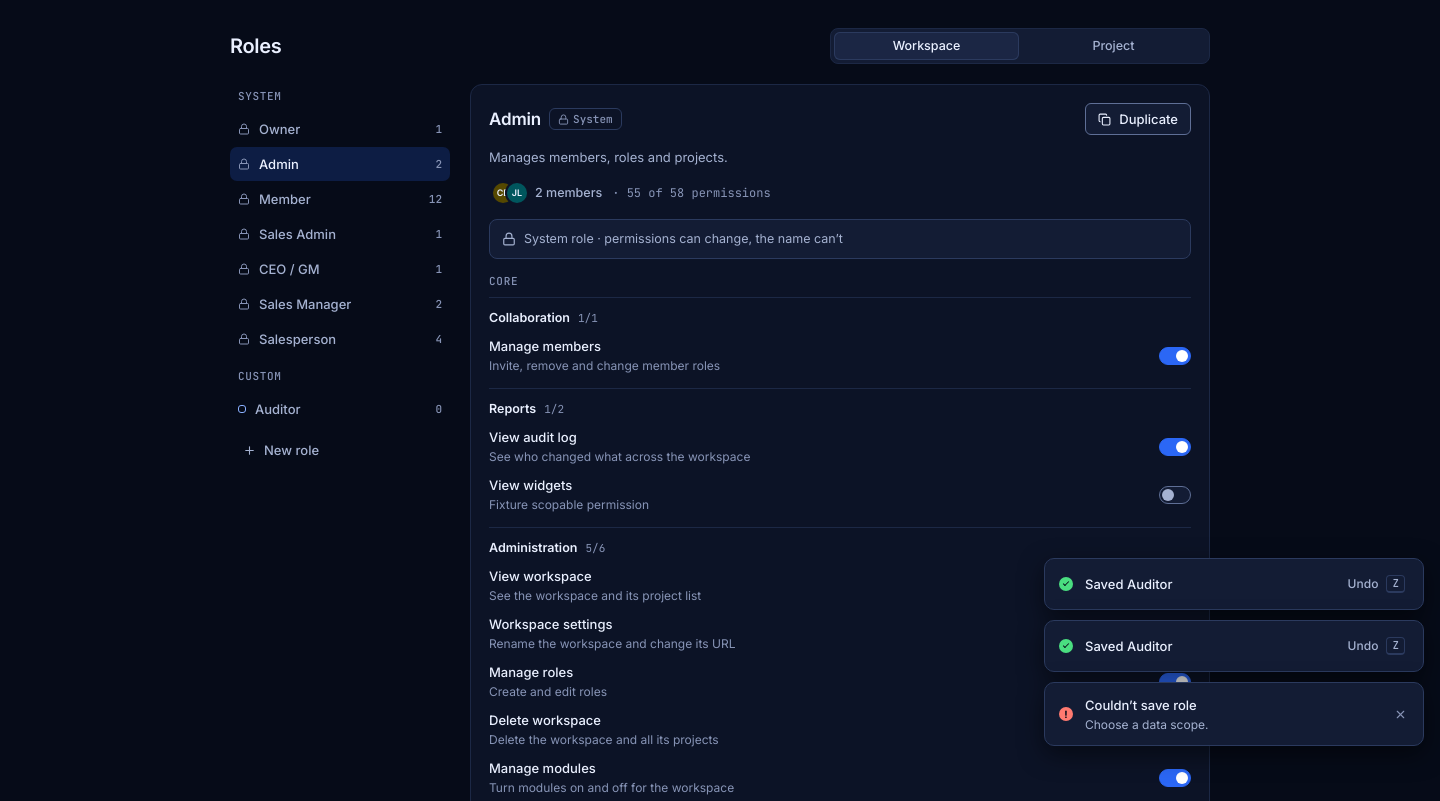
Test: RolesScreen data scope › shows data_scope_exceeds_own as an error toast naming the permission and both scopes
This screenshot has width=1440, height=801.
Click the button "Auditor 0".
click(340, 409)  # box x1=230 y1=392 x2=450 y2=426
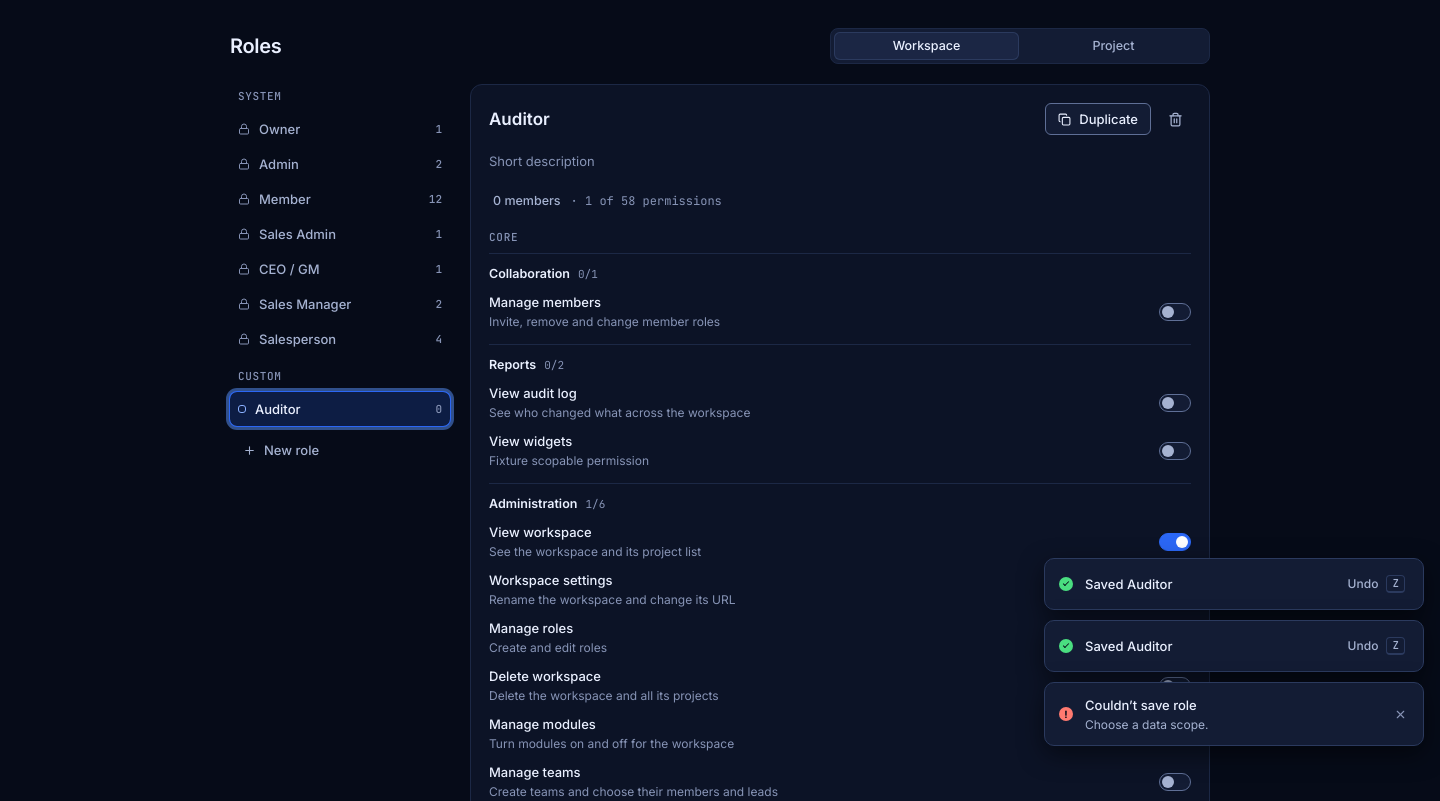
Click the switch labelled "View widgets Fixture scopable permission".
click(1175, 451)  # box x1=1159 y1=442 x2=1191 y2=460
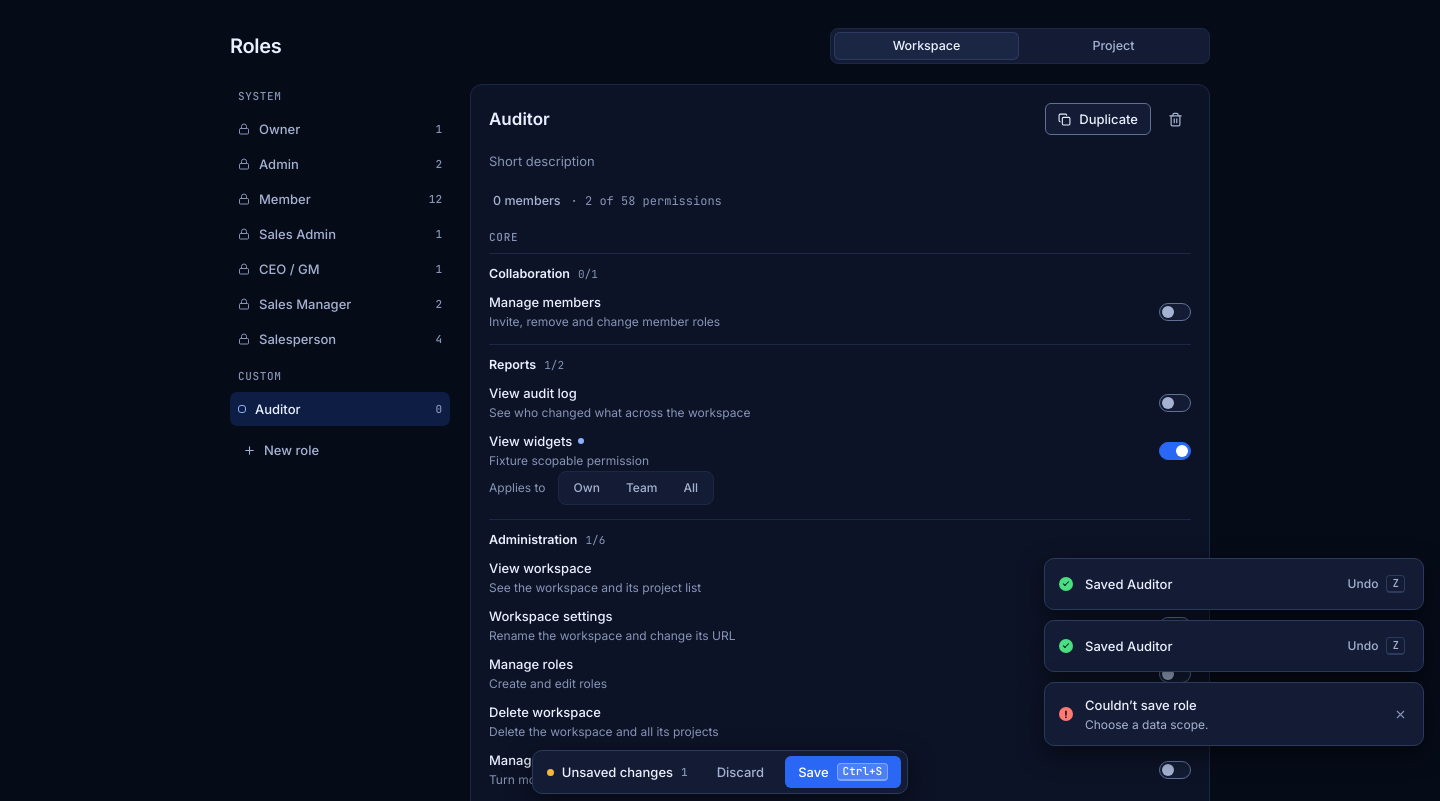
Click the button "All".
click(691, 488)  # box x1=671 y1=475 x2=710 y2=501
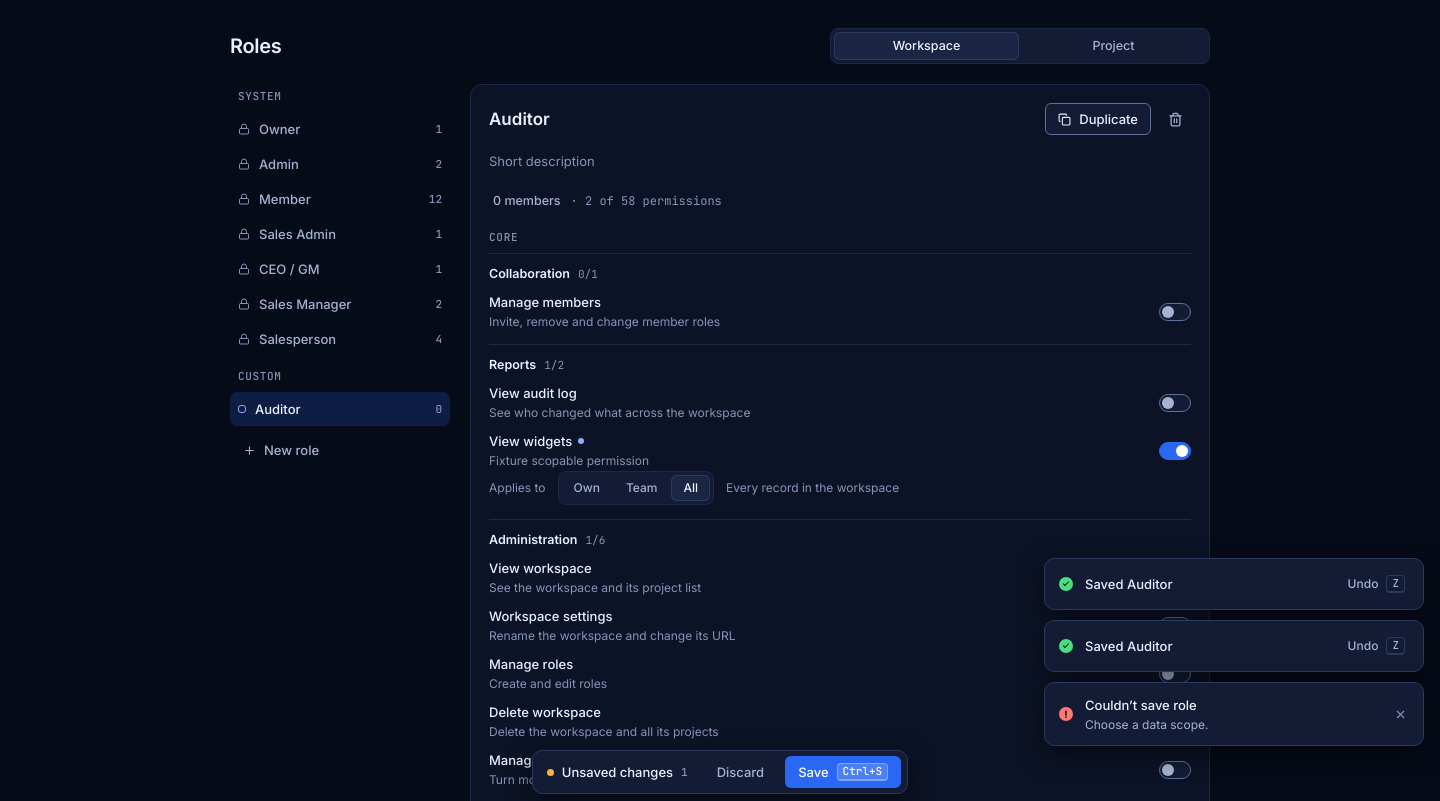
Click the button "Save Ctrl+S".
click(843, 772)  # box x1=785 y1=756 x2=901 y2=788
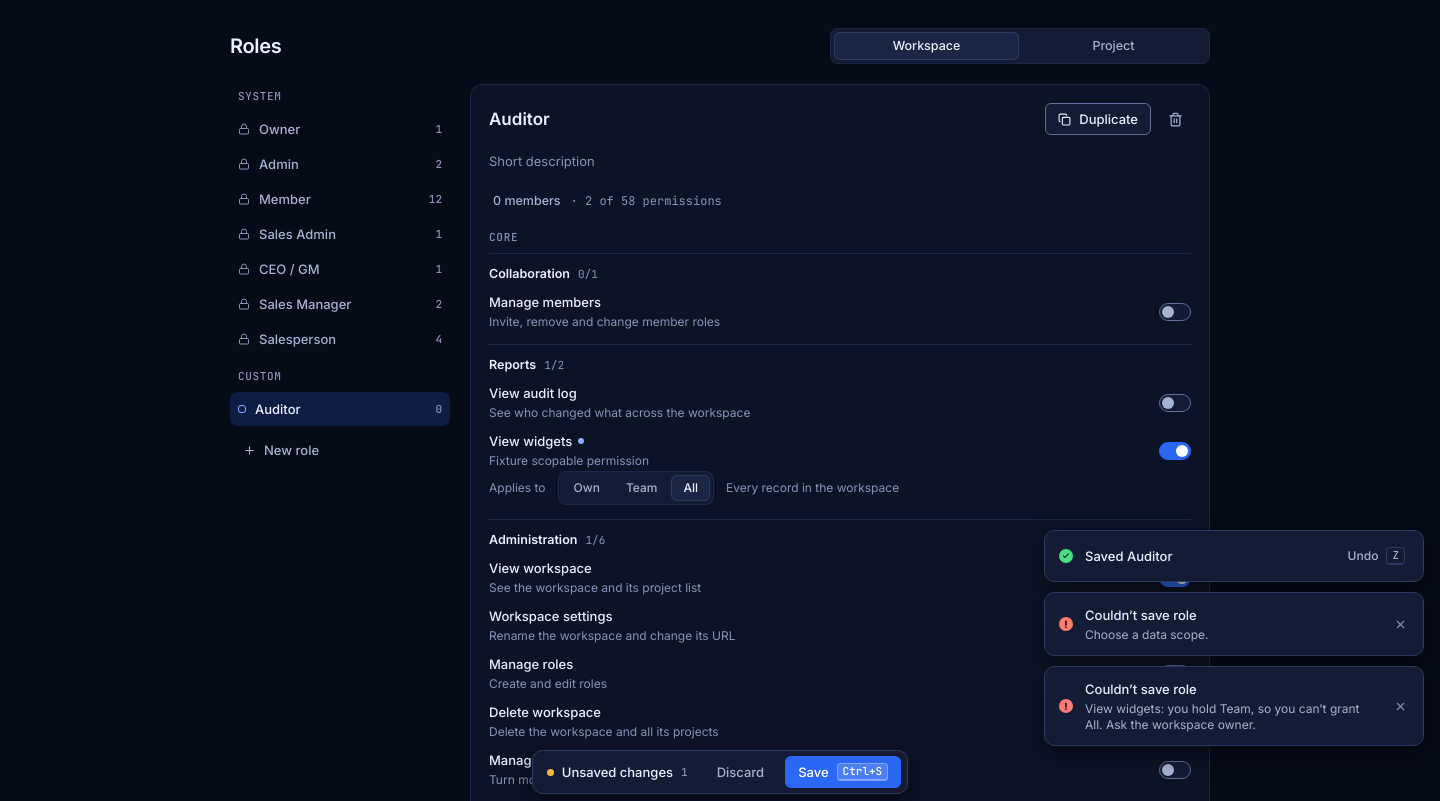
Now the text "View widgets: you hold Team, so you can’t grant All. Ask the workspace owner." is shown, box x1=1085 y1=701 x2=1375 y2=733
